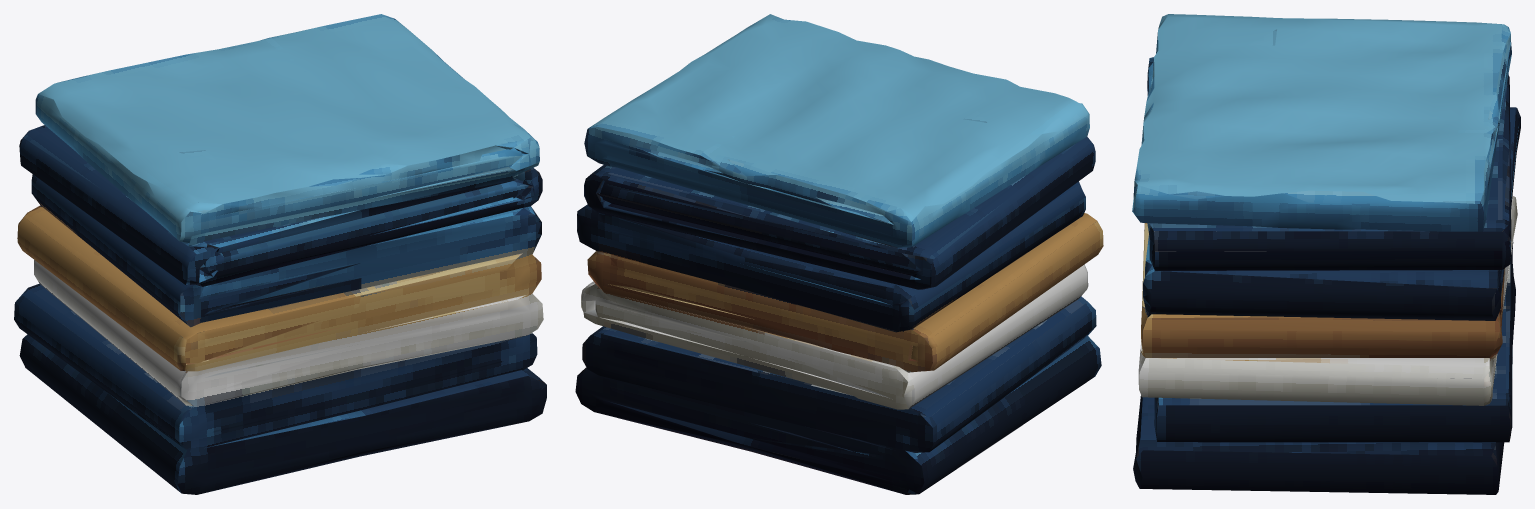
File: clothes_folded.glb
3 views of the same model, side by side, from view 1: azimuth 30°, elevation 25°; view 2: azimuth 150°, elevation 25°; view 3: azimuth 270°, elevation 25° (orthographic). The views are drawn at different scales.
Visible parts, largest first — view 1: mesh; view 2: mesh; view 3: mesh.
Boxes of the visible parts, box(x1,y1,x2,y2) form: mesh: box(14, 14, 546, 494); mesh: box(575, 14, 1103, 494); mesh: box(1132, 14, 1520, 494).
Bounding box in the file's own units: 0.2439 × 0.18 × 0.205.
1 material, 1 textured.
